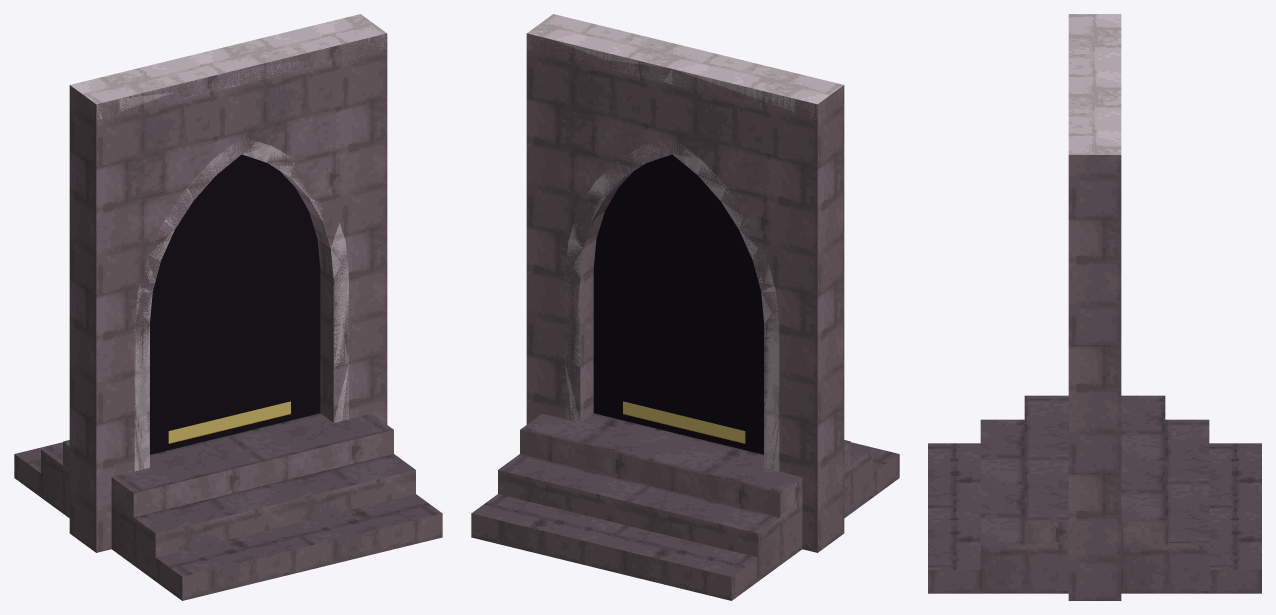
Rendered from stairs_abgang_b.glb.
3 views of the same model, side by side, from view 1: azimuth 30°, elevation 25°; view 2: azimuth 150°, elevation 25°; view 3: azimuth 270°, elevation 25° (orthographic).
Visible parts, largest first — view 1: stairs, glow; view 2: stairs, glow; view 3: stairs.
Part boxes in pixels (<box>): stairs: <box>14,14,442,600</box>; glow: <box>168,401,290,443</box>; stairs: <box>471,14,899,600</box>; glow: <box>623,401,745,443</box>; stairs: <box>928,14,1261,600</box>.
Bounding box in the file's own units: 2.38 × 3.5 × 2.38.
Materials: 1 (1 with a texture image).
